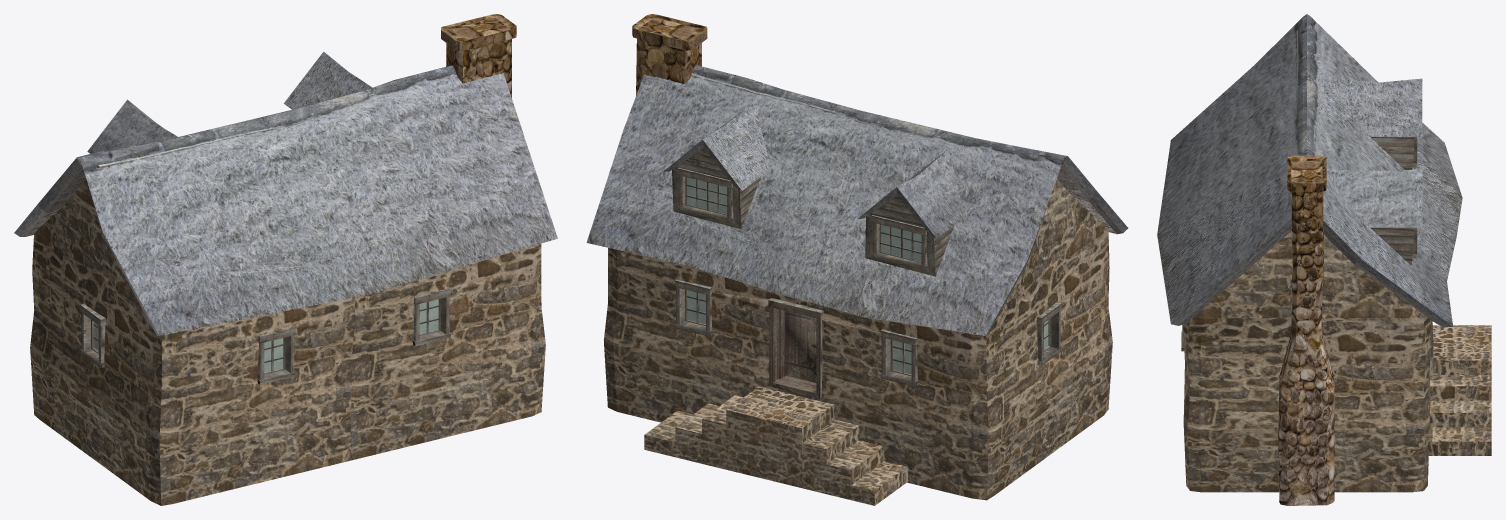
The model's file is stoneHouse1.fbx.
3 renders of one model, left to right at view 1: azimuth 30°, elevation 25°; view 2: azimuth 150°, elevation 25°; view 3: azimuth 270°, elevation 25°, orthographic. The views are drawn at different scales.
Visible parts, largest first — view 1: base, roof; view 2: roof, base, steps, door; view 3: base, roof, steps.
Part boxes in pixels (x1,y1,x2,y2): base: (30, 14, 545, 505); roof: (14, 51, 557, 335); roof: (586, 65, 1128, 335); base: (604, 14, 1112, 500); steps: (644, 386, 908, 505); door: (785, 311, 816, 382); base: (1181, 155, 1433, 505); roof: (1157, 14, 1462, 327); steps: (1429, 325, 1491, 455).
Size of the model in its own units: 17.34 by 12.85 by 12.15.
